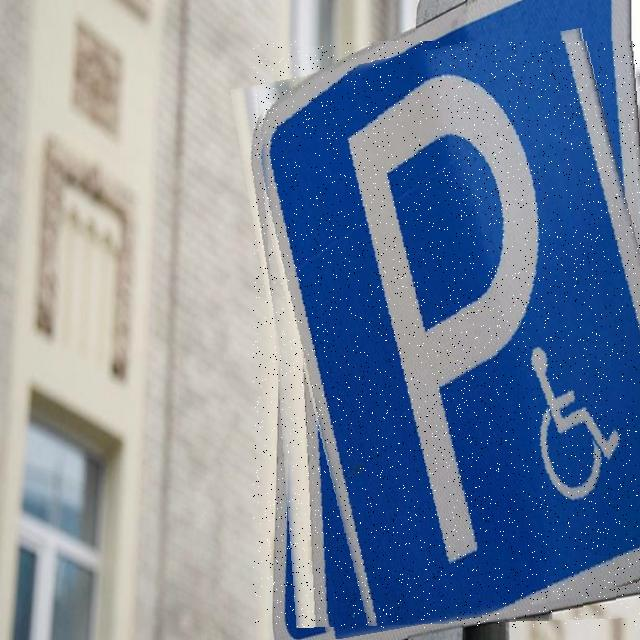parking: (253, 41, 640, 628)
